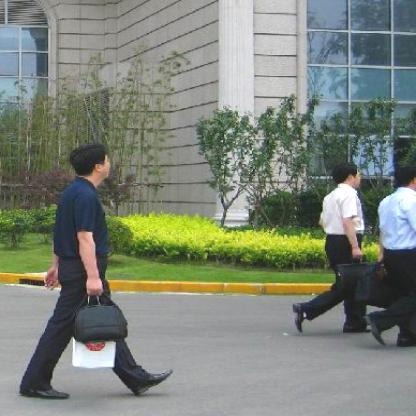ped: (22, 145, 174, 399), (295, 163, 377, 333)
